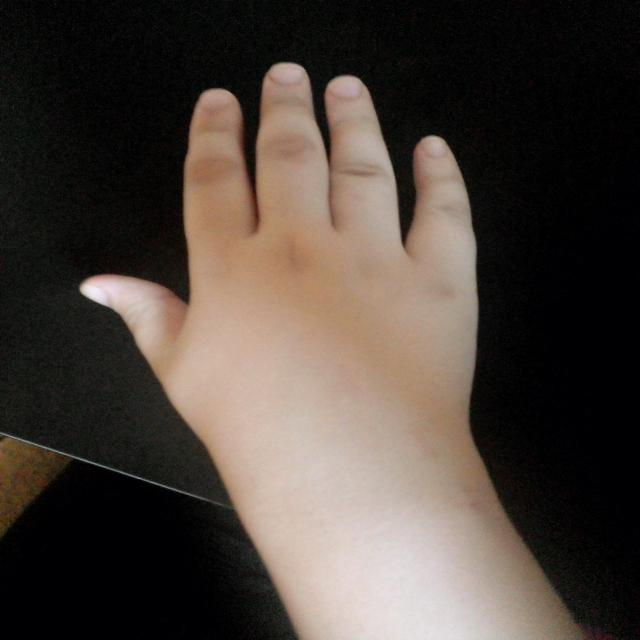Open Hand: (72, 59, 478, 488)
